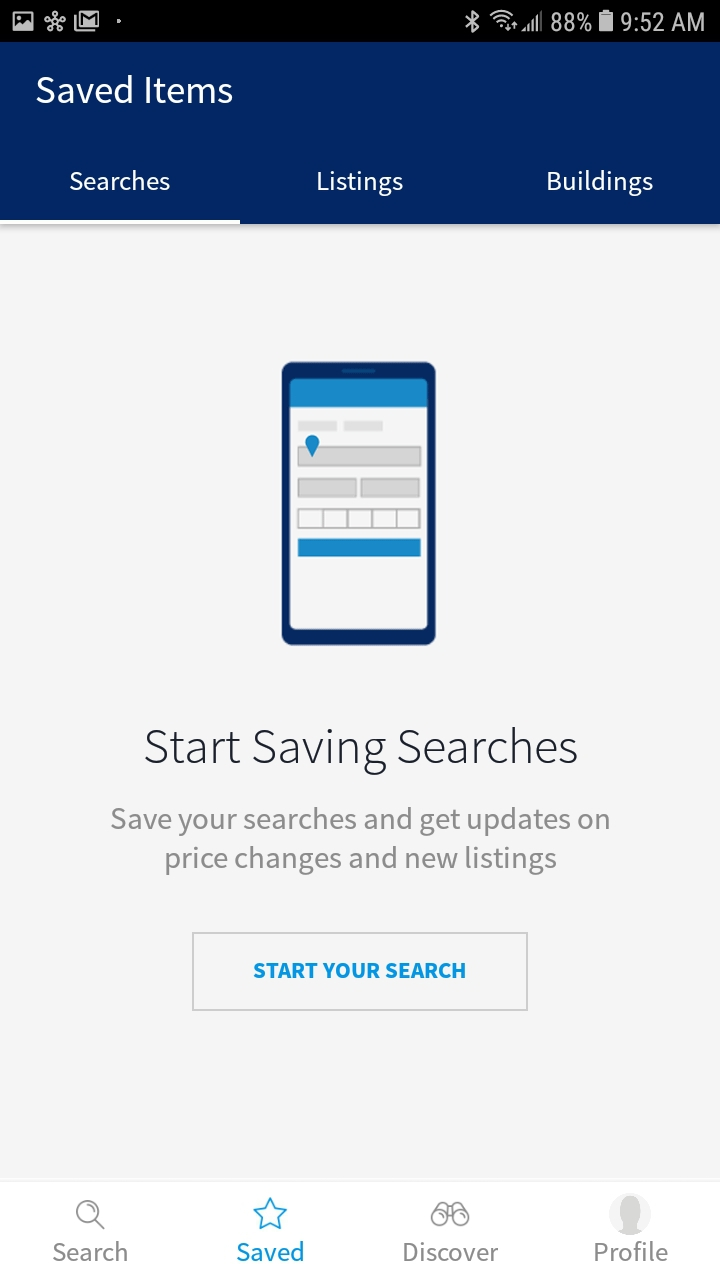Icon: (609, 1193, 652, 1236), (253, 1196, 288, 1230), (76, 1199, 106, 1230)
Image: (282, 362, 437, 647), (430, 1201, 470, 1227)
Text: (111, 806, 610, 876), (145, 726, 578, 776), (37, 75, 233, 105), (548, 170, 654, 198), (318, 171, 404, 198), (71, 170, 171, 192), (404, 1242, 499, 1262), (53, 1240, 129, 1262), (594, 1240, 668, 1262), (237, 1240, 304, 1262)
TextButton: (192, 932, 529, 1012)
UpperTaskBar: (1, 1, 720, 43)
